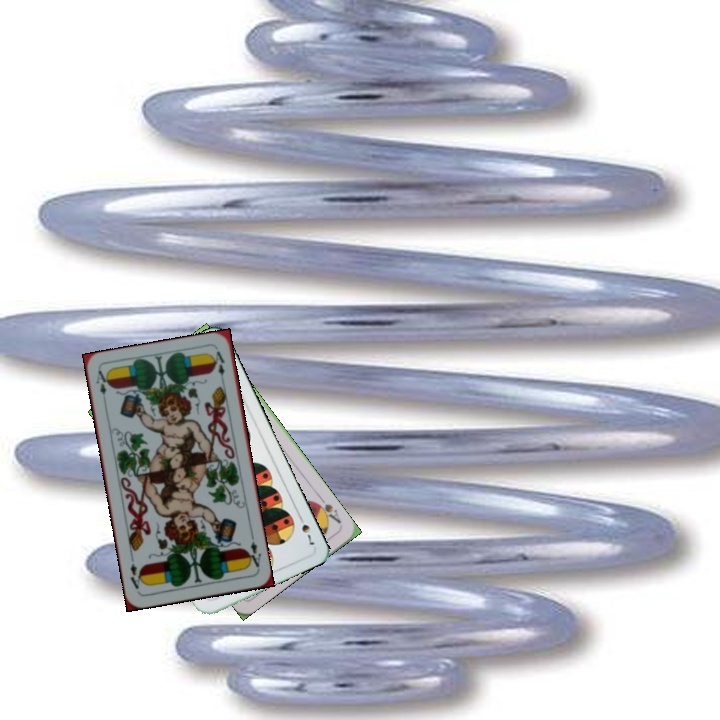EA: (243, 531, 264, 572), (92, 366, 112, 397)
S7: (294, 511, 317, 548)
SA: (310, 492, 344, 527)
